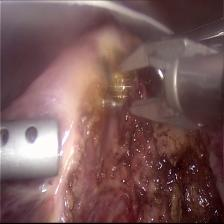Clipper: (114, 34, 220, 134)
Irrigator: (0, 115, 62, 185)
